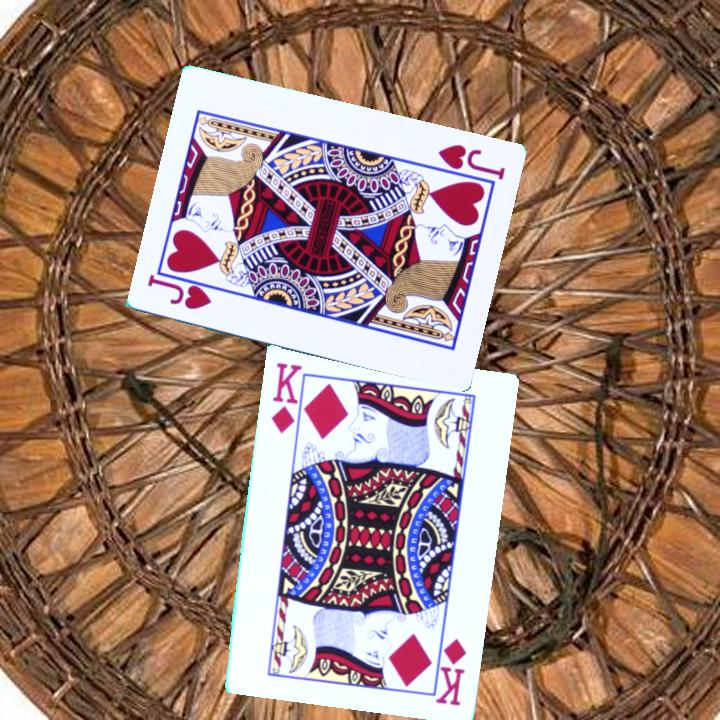Jh: (435, 140, 509, 183), (144, 271, 216, 312)
Kd: (267, 358, 307, 438), (431, 634, 469, 709)
